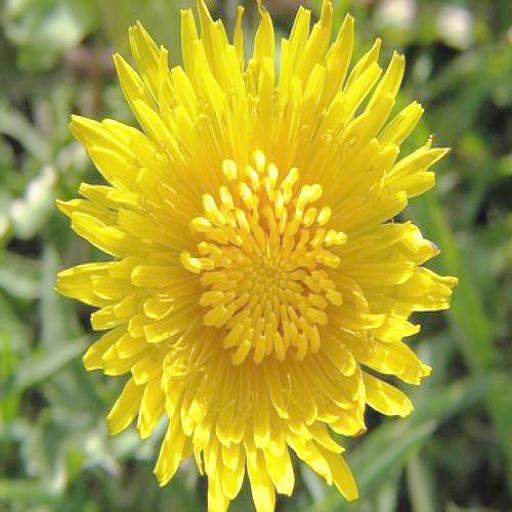dandelion: (62, 2, 458, 512)
